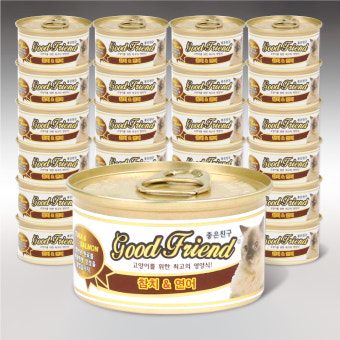paper: (65, 164, 269, 313)
